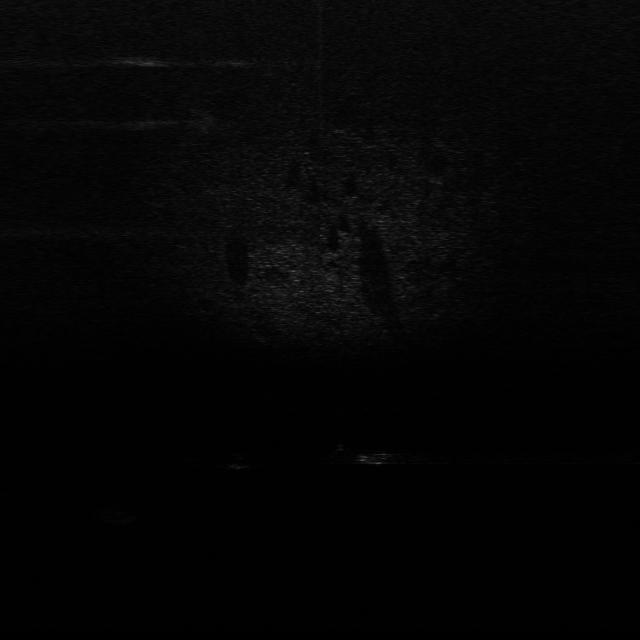ball: (223, 452, 254, 472)
circle cage: (94, 503, 140, 525)
human body: (328, 439, 429, 469)
